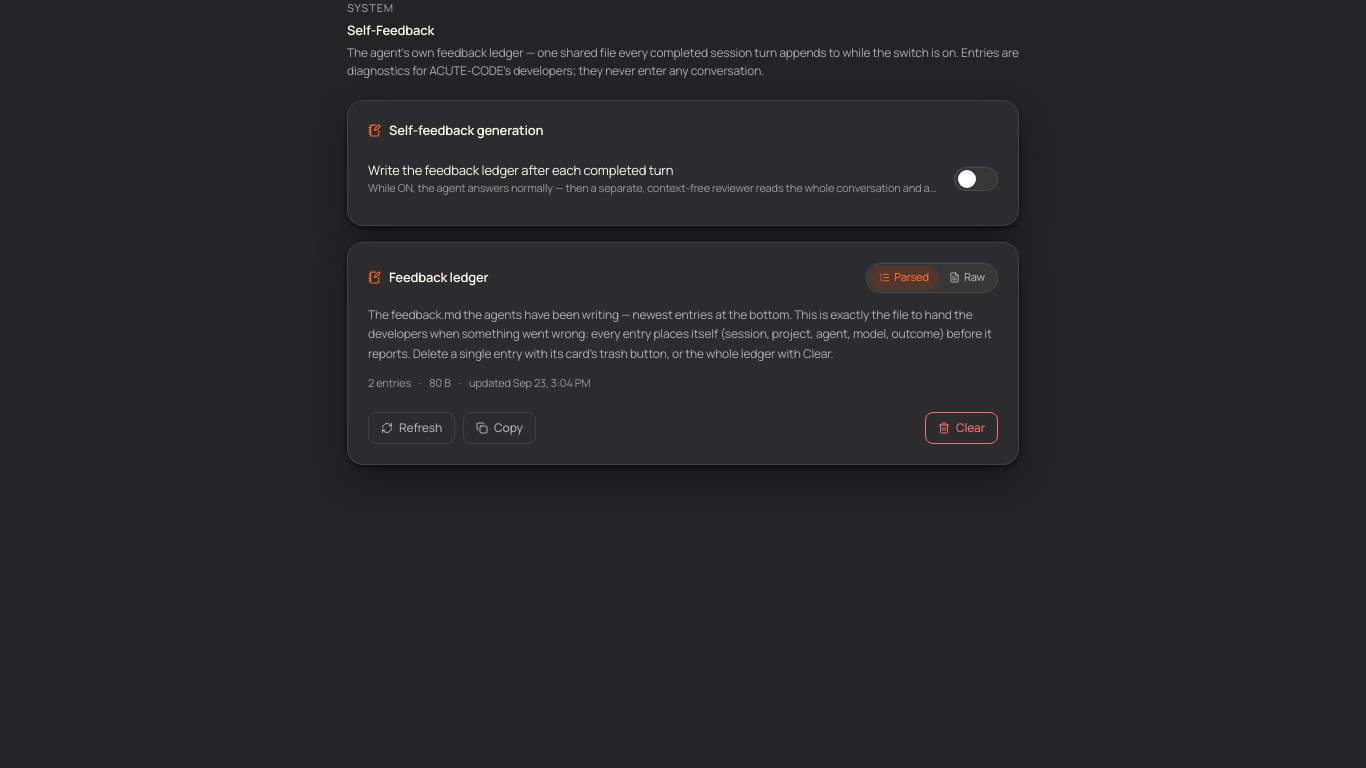
it: R122: the feedback ledger viewer card › Clear rides the styled ConfirmDialog (never window.confirm), then DELETEs and converges to the empty state
This screenshot has width=1366, height=768.
Click the button with test id "feedback-clear-button": x=961, y=428 [925,412,998,444]
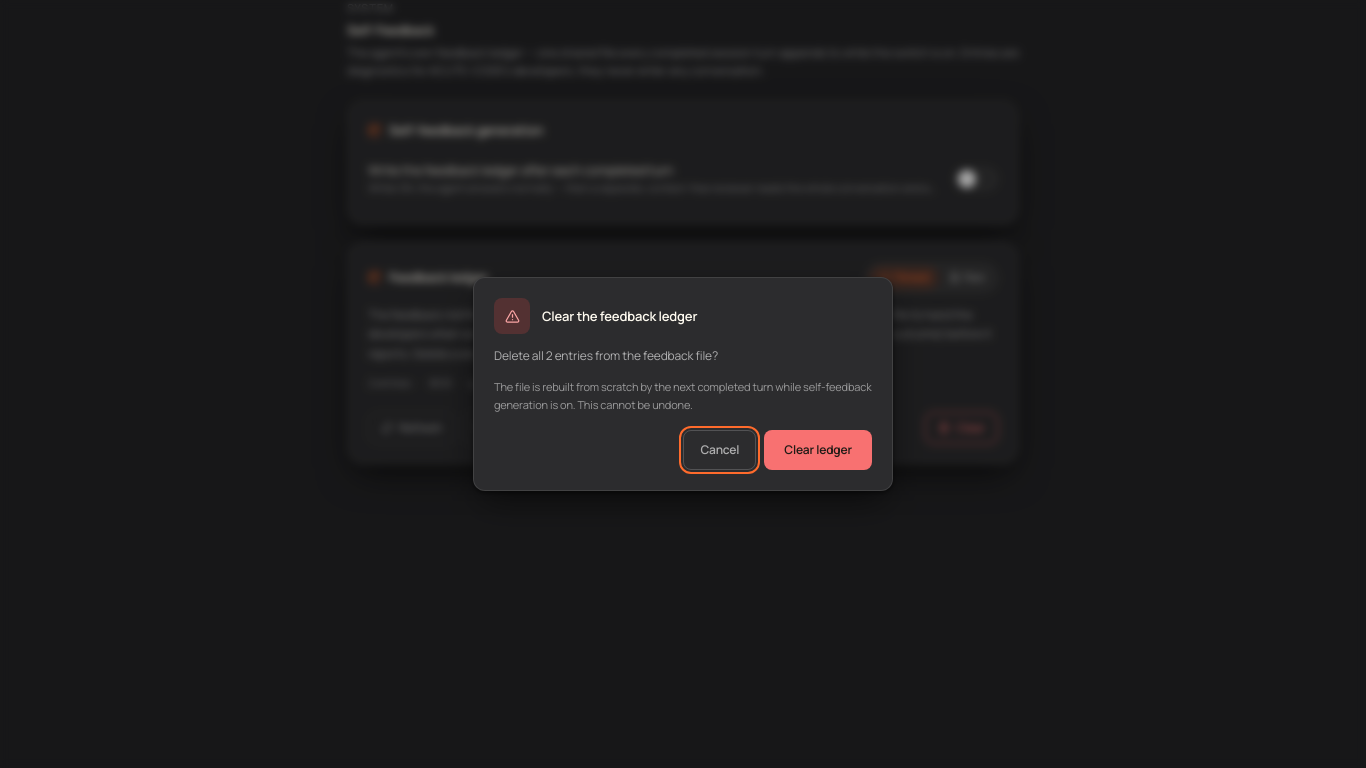
Check: the text "Clear the feedback ledger" is shown, box [542,307,697,326]
Check: the text "Delete all 2 entries from the feedback file?" is shown, box [494,347,718,364]
Click the button "Clear ledger": x=818, y=450 [764,430,872,470]
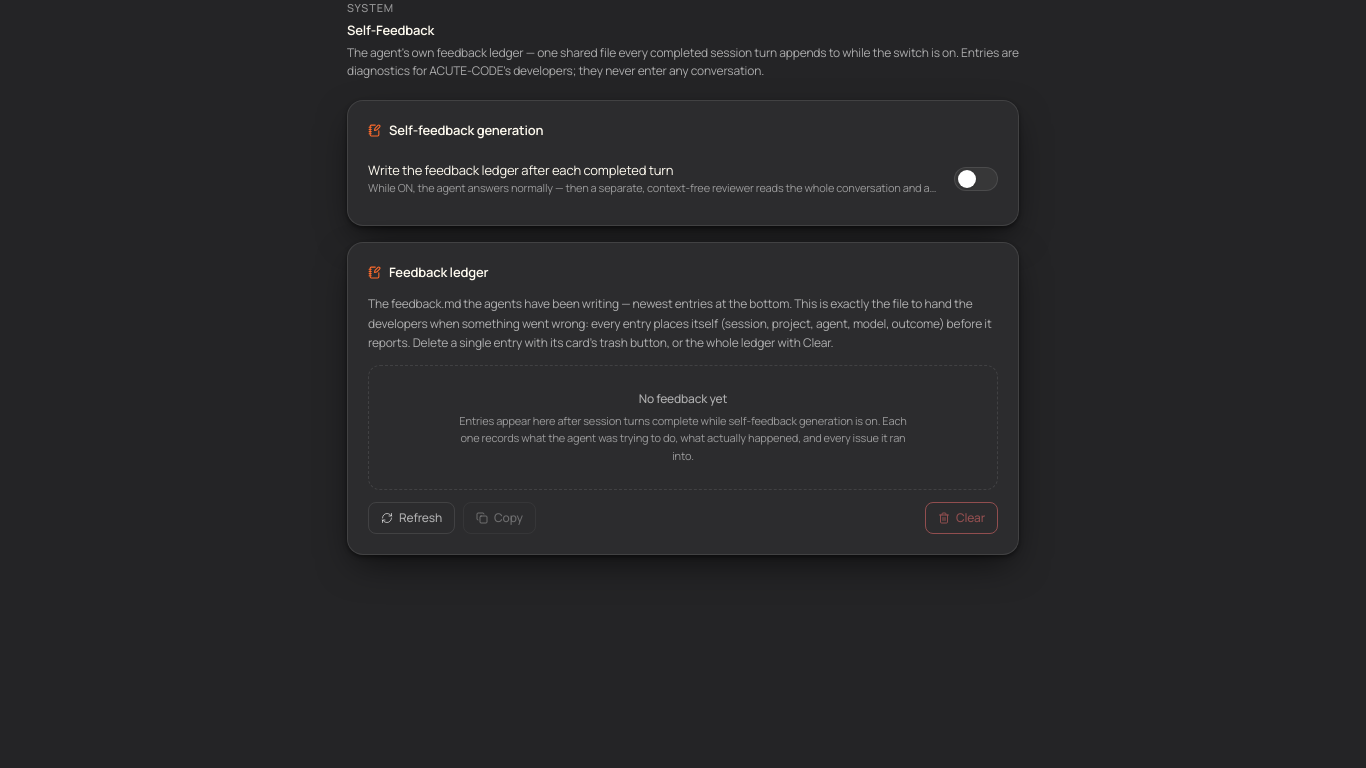
Check: the text "No feedback yet" is shown, box [639,390,727,406]
